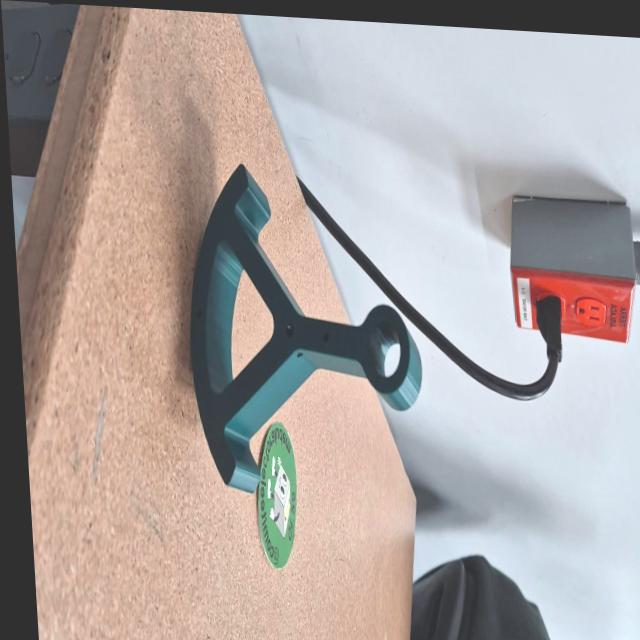haptic: (177, 157, 431, 507)
